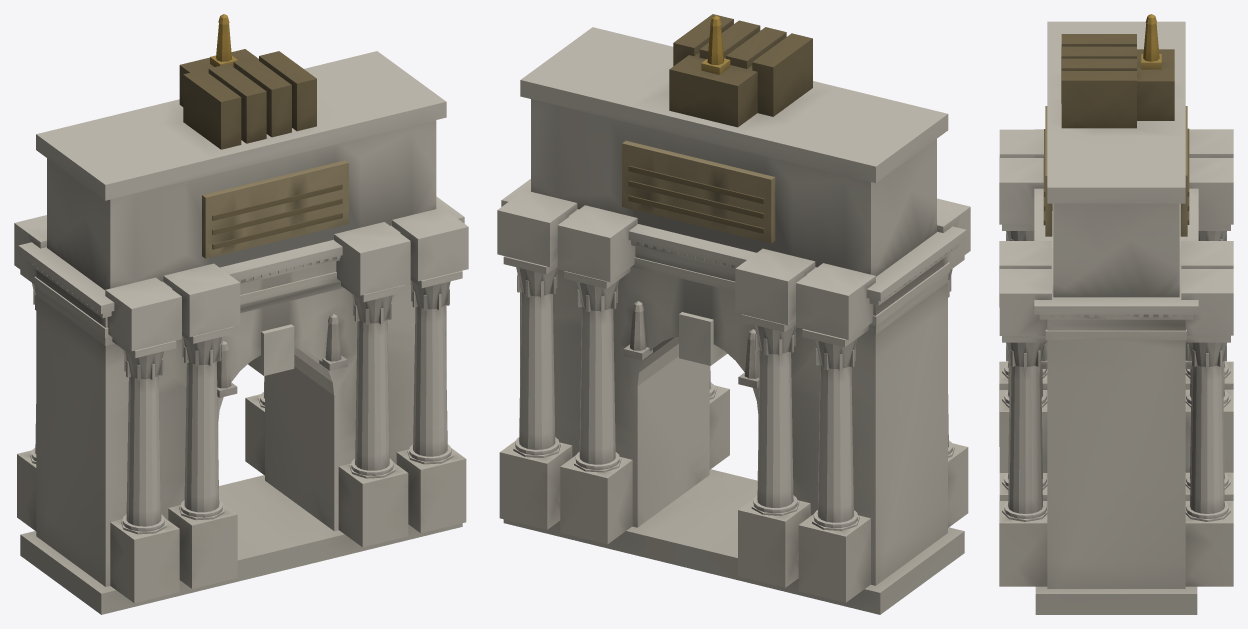
File: arch-of-titus.glb
The picture shows the model from 3 angles, left to right: view 1: azimuth 30°, elevation 25°; view 2: azimuth 150°, elevation 25°; view 3: azimuth 270°, elevation 25°; orthographic projection. The views are drawn at different scales.
Parts seen in each view (by area): view 1: p2_attic, p1_columns, p0_body; view 2: p2_attic, p1_columns, p0_body; view 3: p2_attic, p1_columns, p0_body.
Boxes of the visible parts, x1,y1,x2,y2 form: p2_attic: (18, 14, 464, 345); p1_columns: (14, 207, 468, 603); p0_body: (20, 261, 462, 614); p2_attic: (501, 14, 966, 334); p1_columns: (497, 190, 970, 602); p0_body: (503, 255, 964, 614); p2_attic: (1034, 14, 1198, 340); p1_columns: (999, 129, 1233, 586); p0_body: (1035, 319, 1197, 614).
Bounding box in the file's own units: 14.4 × 19.46 × 8.05.
